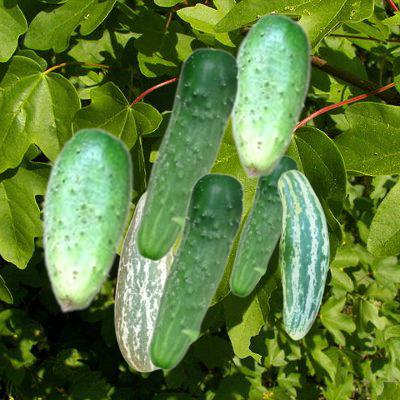cucumber: (133, 47, 239, 261), (146, 172, 244, 370), (41, 126, 132, 312), (229, 12, 310, 178), (114, 193, 174, 371), (228, 154, 298, 296), (277, 169, 328, 339)
